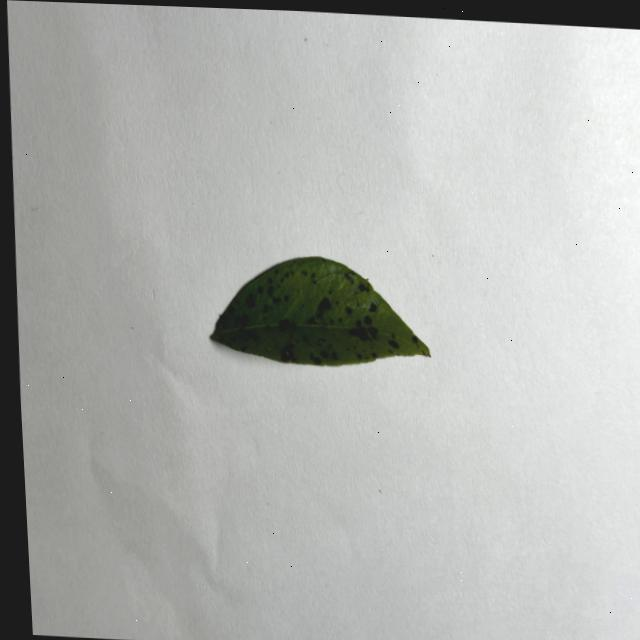sooty_mold: (211, 256, 428, 366)
